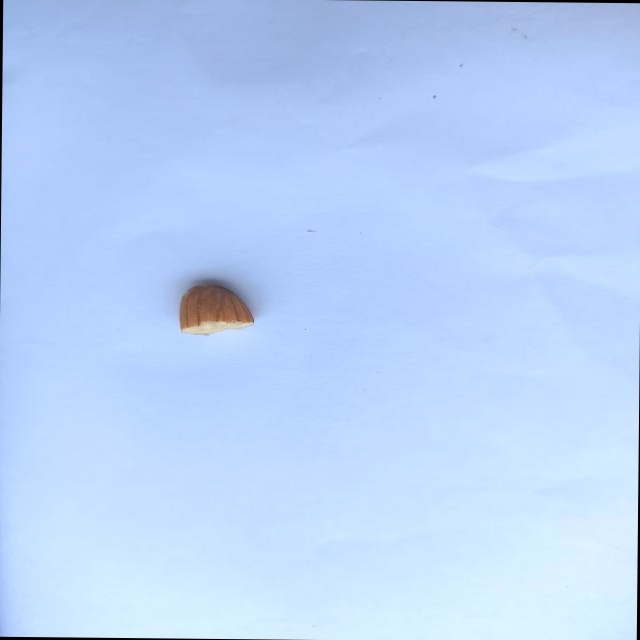grade4: (172, 277, 263, 340)
